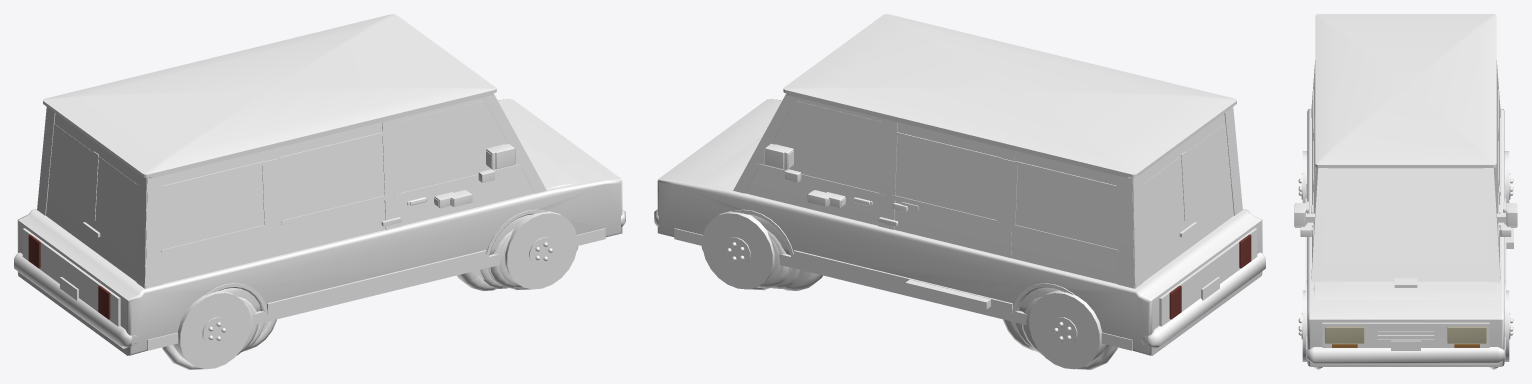
The model's file is vehicles.glb.
3 renders of one model, left to right at view 1: azimuth 30°, elevation 25°; view 2: azimuth 150°, elevation 25°; view 3: azimuth 270°, elevation 25°, orthographic. The views are drawn at different scales.
Visible parts, largest first — view 1: passenger-van::crowned-roof, passenger-van::body-shell, passenger-van::cargo-waist, passenger-van::van-cab-glass-left, passenger-van::passenger-side-glass-1-left, passenger-van::passenger-side-glass-0-left, objective-sedan::objective-sedan-wheel-3, objective-sedan::objective-sedan-wheel-1, passenger-van::cargo-roof-header, passenger-van::van-cab-waist, objective-sedan::objective-sedan-rocker-1, passenger-van::passenger-rear-glass-left (+20 smaller); view 2: passenger-van::crowned-roof, passenger-van::body-shell, passenger-van::cargo-waist, passenger-van::van-cab-glass-right, passenger-van::passenger-side-glass-1-right, passenger-van::passenger-side-glass-0-right, objective-sedan::objective-sedan-wheel-4, objective-sedan::objective-sedan-wheel-2, passenger-van::cargo-roof-header, passenger-van::van-cab-waist, passenger-van::passenger-rear-glass-right, passenger-van::passenger-rear-glass-left (+21 smaller); view 3: passenger-van::crowned-roof, passenger-van::van-cab-glass-front, passenger-van::body-shell, passenger-van::van-cab-waist, objective-sedan::objective-sedan-hood-1, passenger-van::front-bumper, passenger-van::front-lamp-panel, passenger-van::van-a-pillar-left, passenger-van::van-a-pillar-right, passenger-van::van-cab-roof-header, passenger-van::headlamp-1, passenger-van::headlamp--1 (+8 smaller).
Boxes of the visible parts, bbox=[...] form: passenger-van::crowned-roof: bbox=[43, 14, 496, 177]; passenger-van::body-shell: bbox=[17, 99, 622, 355]; passenger-van::cargo-waist: bbox=[46, 185, 385, 284]; passenger-van::van-cab-glass-left: bbox=[398, 101, 518, 192]; passenger-van::passenger-side-glass-1-left: bbox=[280, 136, 384, 220]; passenger-van::passenger-side-glass-0-left: bbox=[162, 166, 264, 249]; objective-sedan::objective-sedan-wheel-3: bbox=[173, 290, 250, 369]; objective-sedan::objective-sedan-wheel-1: bbox=[505, 211, 577, 289]; passenger-van::cargo-roof-header: bbox=[54, 113, 382, 185]; passenger-van::van-cab-waist: bbox=[401, 168, 534, 225]; objective-sedan::objective-sedan-rocker-1: bbox=[147, 228, 605, 350]; passenger-van::passenger-rear-glass-left: bbox=[95, 156, 138, 249]; passenger-van::crowned-roof: bbox=[783, 14, 1236, 177]; passenger-van::body-shell: bbox=[657, 99, 1262, 355]; passenger-van::cargo-waist: bbox=[894, 185, 1233, 284]; passenger-van::van-cab-glass-right: bbox=[761, 101, 881, 192]; passenger-van::passenger-side-glass-1-right: bbox=[895, 136, 999, 220]; passenger-van::passenger-side-glass-0-right: bbox=[1015, 166, 1117, 249]; objective-sedan::objective-sedan-wheel-4: bbox=[1029, 290, 1106, 369]; objective-sedan::objective-sedan-wheel-2: bbox=[702, 211, 774, 289]; passenger-van::cargo-roof-header: bbox=[897, 113, 1225, 185]; passenger-van::van-cab-waist: bbox=[745, 168, 878, 225]; passenger-van::passenger-rear-glass-right: bbox=[1141, 156, 1184, 249]; passenger-van::passenger-rear-glass-left: bbox=[1186, 124, 1231, 214]; passenger-van::crowned-roof: bbox=[1315, 14, 1496, 167]; passenger-van::van-cab-glass-front: bbox=[1323, 173, 1488, 250]; passenger-van::body-shell: bbox=[1307, 108, 1504, 366]; passenger-van::van-cab-waist: bbox=[1312, 233, 1499, 281]; objective-sedan::objective-sedan-hood-1: bbox=[1313, 281, 1498, 299]; passenger-van::front-bumper: bbox=[1307, 347, 1504, 364]; passenger-van::front-lamp-panel: bbox=[1322, 322, 1489, 347]; passenger-van::van-a-pillar-left: bbox=[1311, 168, 1328, 282]; passenger-van::van-a-pillar-right: bbox=[1483, 168, 1500, 282]; passenger-van::van-cab-roof-header: bbox=[1328, 168, 1483, 173]; passenger-van::headlamp-1: bbox=[1325, 327, 1364, 343]; passenger-van::headlamp--1: bbox=[1447, 327, 1486, 343].
Bounding box in the file's own units: 4.99 × 2.03 × 2.18.
